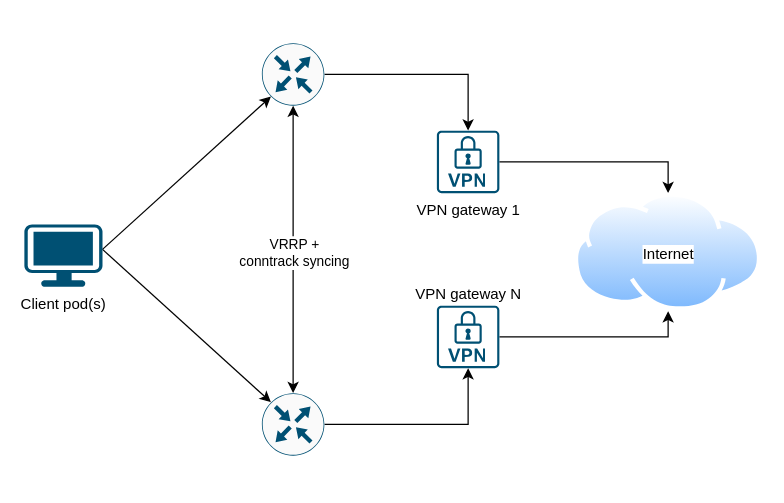
The diagram is 784 pixels wide and 503 high, and some of its shapes have lost their labels. The box of each missing label's shape, as (x1, y1, x2, y2) in pixels:
Active router: (261, 42, 324, 106)
Backup router(s): (261, 392, 324, 456)
